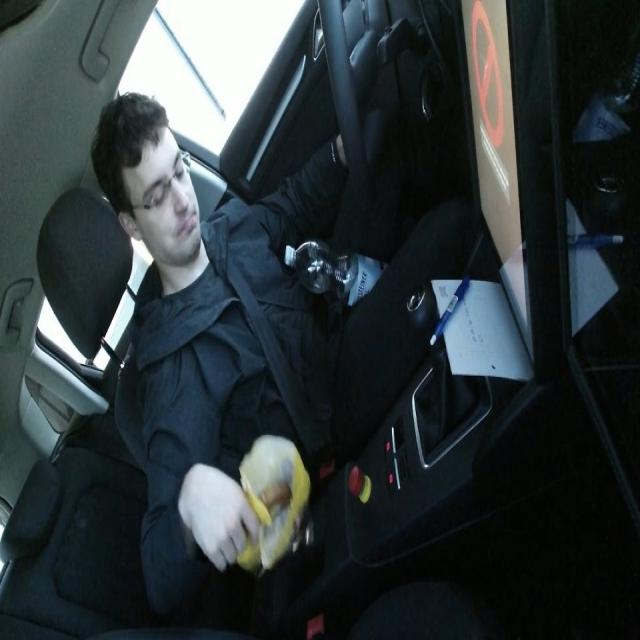pen: (428, 269, 472, 346)
